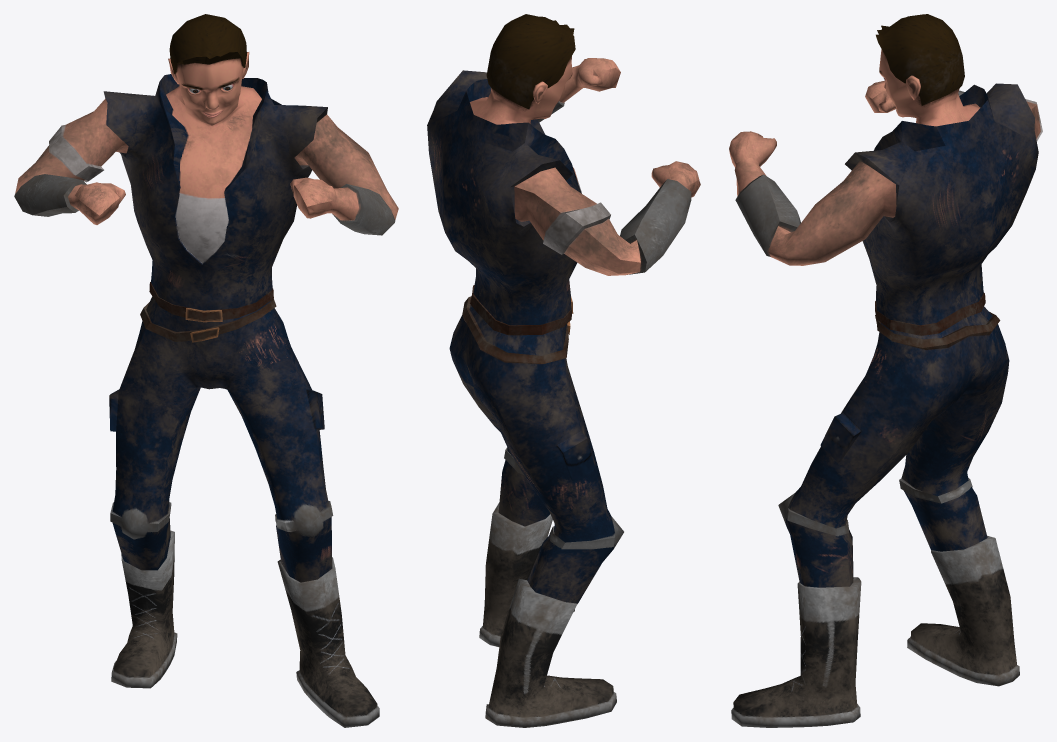
The model's file is Anim_especial_jugador.0017.obj.
3 renders of one model, left to right at view 1: azimuth 30°, elevation 25°; view 2: azimuth 150°, elevation 25°; view 3: azimuth 270°, elevation 25°, orthographic. The views are drawn at different scales.
Visible parts, largest first — view 1: polySurface1; view 2: polySurface1; view 3: polySurface1.
Boxes of the visible parts, x1,y1,x2,y2 form: polySurface1: (14, 14, 398, 727); polySurface1: (427, 14, 700, 727); polySurface1: (729, 14, 1042, 727).
Bounding box in the file's own units: 4.12 × 9.22 × 3.93.
